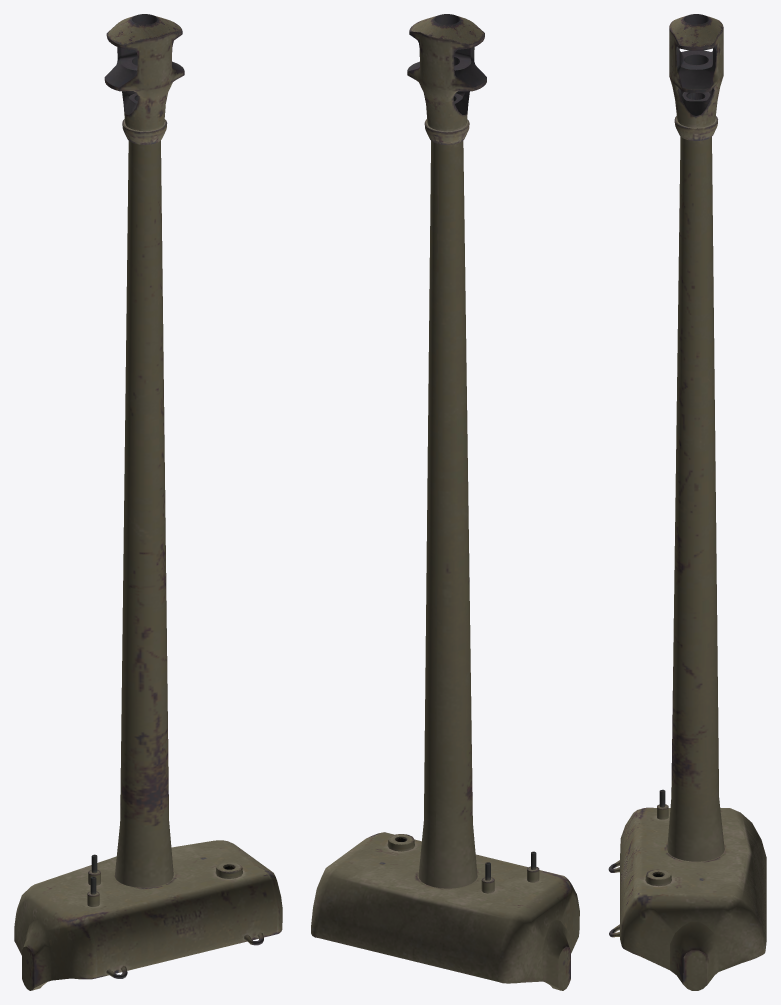
Rendered from Gun_03.glb.
The picture shows the model from 3 angles, left to right: view 1: azimuth 30°, elevation 25°; view 2: azimuth 150°, elevation 25°; view 3: azimuth 270°, elevation 25°; orthographic projection. The views are drawn at different scales.
Visible parts, largest first — view 1: set_0_group_0; view 2: set_0_group_0; view 3: set_0_group_0.
Boxes of the visible parts, x1,y1,x2,y2 form: set_0_group_0: (14,14,282,990); set_0_group_0: (311,14,579,990); set_0_group_0: (608,14,766,990).
Bounding box in the file's own units: 1.55 × 5.81 × 0.9106.
1 material, 1 textured.
